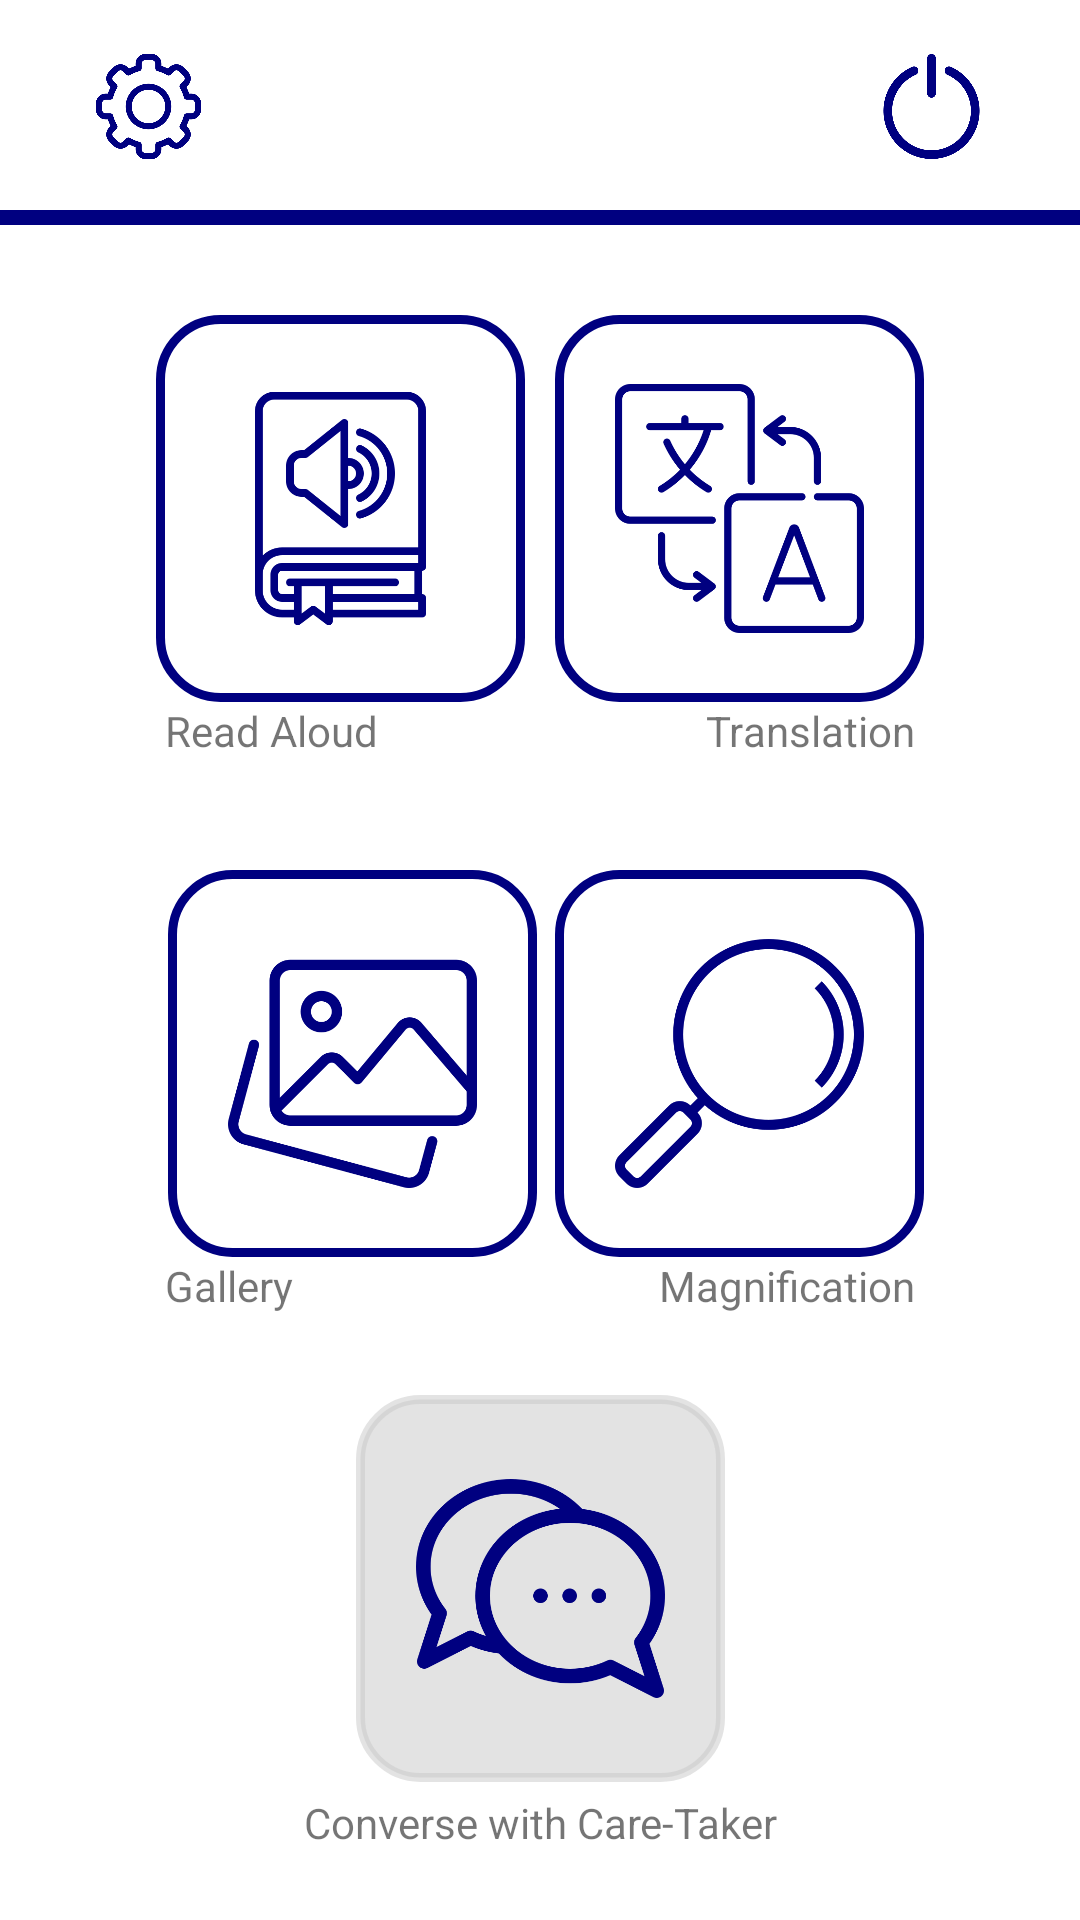

Icons on this 1080w x 1920h Android screen, each with its box as box(x1, y1, x2, y2):
settings: box(96, 54, 201, 159)
switch: box(883, 54, 980, 159)
